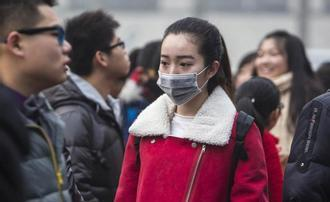NONE: (22, 23, 76, 83), (104, 33, 134, 79), (257, 49, 287, 81)
OK: (159, 48, 213, 102)
